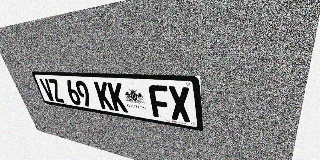6: (64, 80, 82, 106)
9: (74, 80, 93, 107)
F: (148, 85, 171, 119)
K: (107, 82, 128, 113), (94, 81, 114, 111)
V: (39, 78, 56, 102)
X: (168, 86, 192, 123)
Z: (47, 79, 65, 103)
